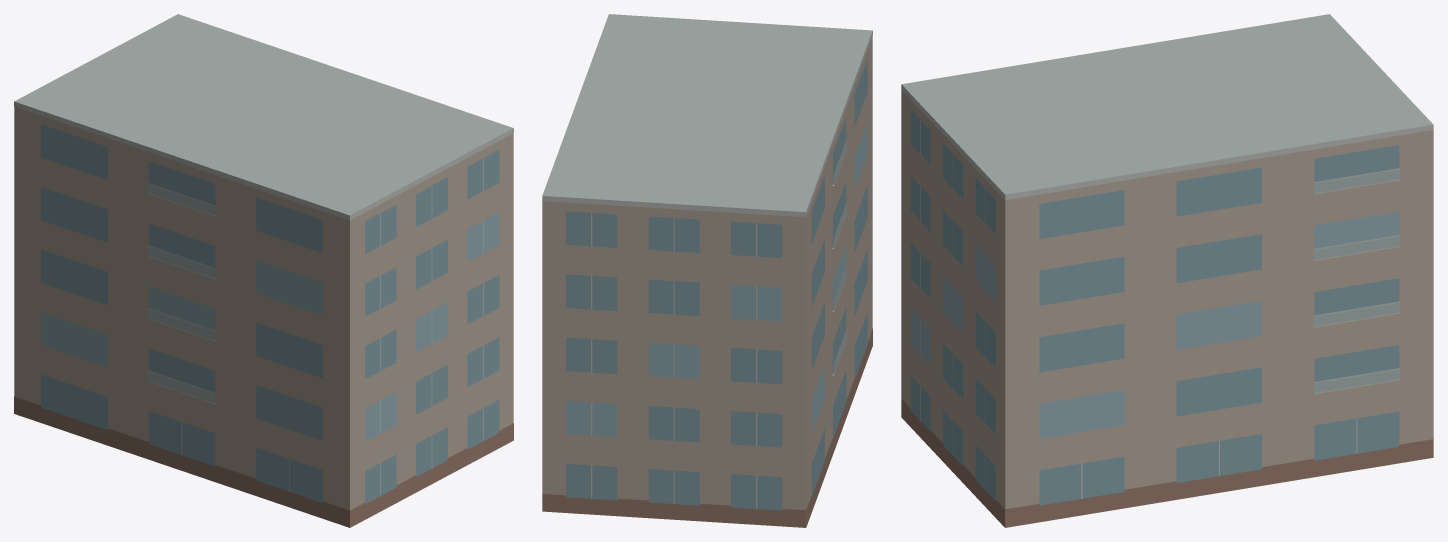
The model's file is survey-upis-32964704.glb.
3 views of the same model, side by side, from view 1: azimuth 30°, elevation 25°; view 2: azimuth 150°, elevation 25°; view 3: azimuth 270°, elevation 25° (orthographic). The views are drawn at different scales.
Visible parts, largest first — view 1: survey-upis-32964704.tmp; view 2: survey-upis-32964704.tmp; view 3: survey-upis-32964704.tmp.
Part boxes in pixels (left/top/right/bottom): survey-upis-32964704.tmp: left=14, top=14, right=513, bottom=527; survey-upis-32964704.tmp: left=542, top=14, right=872, bottom=527; survey-upis-32964704.tmp: left=901, top=14, right=1433, bottom=527.
Bounding box in the file's own units: 17.35 × 14.9 × 21.58.
